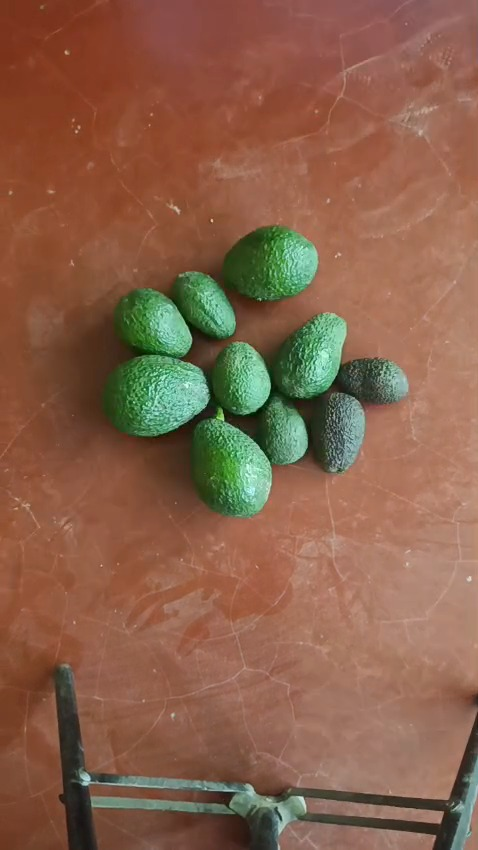Primera: (102, 355, 211, 436), (190, 409, 272, 515)
Segunda: (221, 225, 317, 302), (271, 312, 347, 400)
Tercera: (113, 287, 194, 359), (169, 271, 236, 341), (211, 341, 272, 416), (309, 391, 365, 472), (255, 393, 307, 465), (336, 357, 409, 405)
